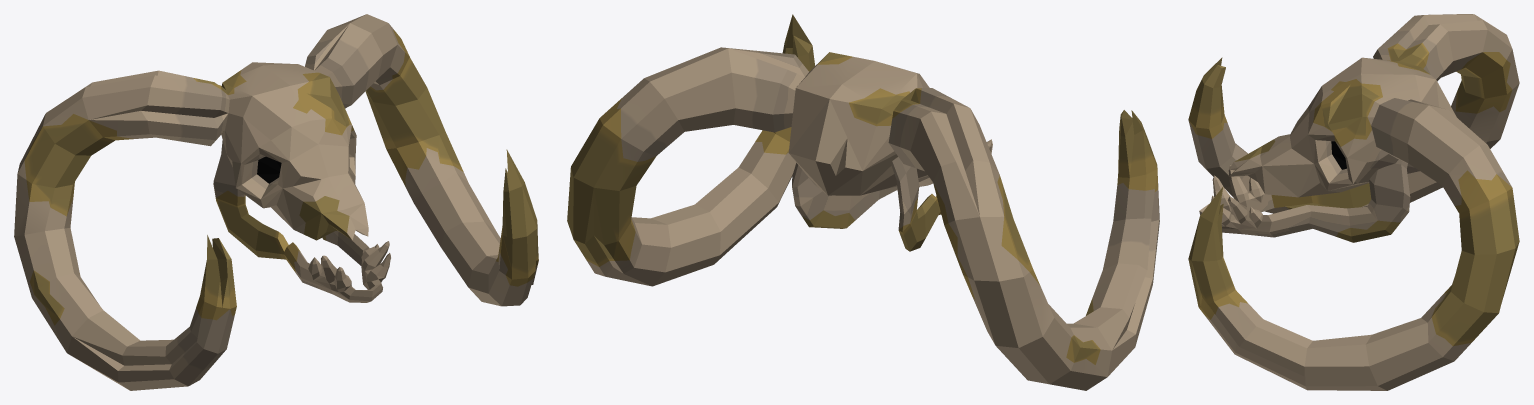
File: bog_bones.gltf
3 views of the same model, side by side, from view 1: azimuth 30°, elevation 25°; view 2: azimuth 150°, elevation 25°; view 3: azimuth 270°, elevation 25° (orthographic). The views are drawn at different scales.
Visible parts, largest first — view 1: bog_bones; view 2: bog_bones; view 3: bog_bones.
Part boxes in pixels (bbox=[...]): bog_bones: bbox=[14, 14, 538, 390]; bog_bones: bbox=[567, 14, 1159, 390]; bog_bones: bbox=[1188, 14, 1519, 390].
Bounding box in the file's own units: 3.48 × 1.96 × 2.42.
1 material, 1 textured.
